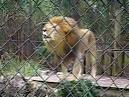lion: (40, 15, 100, 85)
